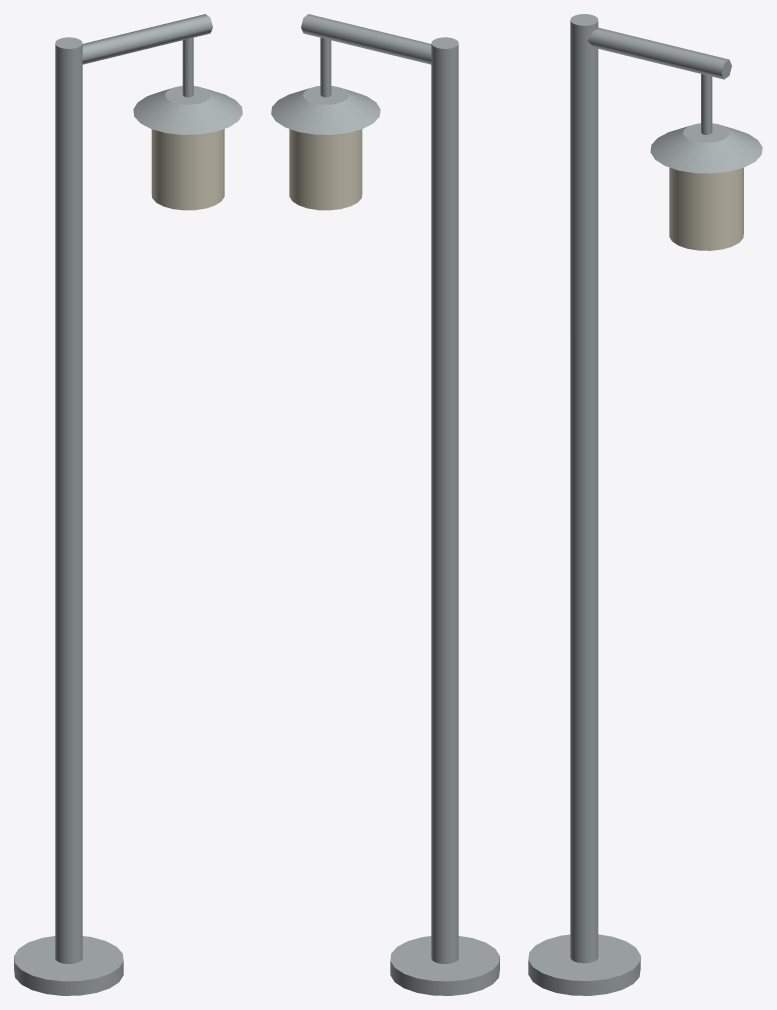
The picture shows the model from 3 angles, left to right: view 1: azimuth 30°, elevation 25°; view 2: azimuth 150°, elevation 25°; view 3: azimuth 330°, elevation 25°; orthographic projection. The views are drawn at different scales.
Visible parts, largest first — view 1: market-lantern-post; view 2: market-lantern-post; view 3: market-lantern-post.
Boxes of the visible parts, <box> form: market-lantern-post: <box>14,14,242,995</box>; market-lantern-post: <box>271,14,499,995</box>; market-lantern-post: <box>528,14,762,995</box>.
Size of the model in its own units: 0.5399 by 2.24 by 0.2401.
